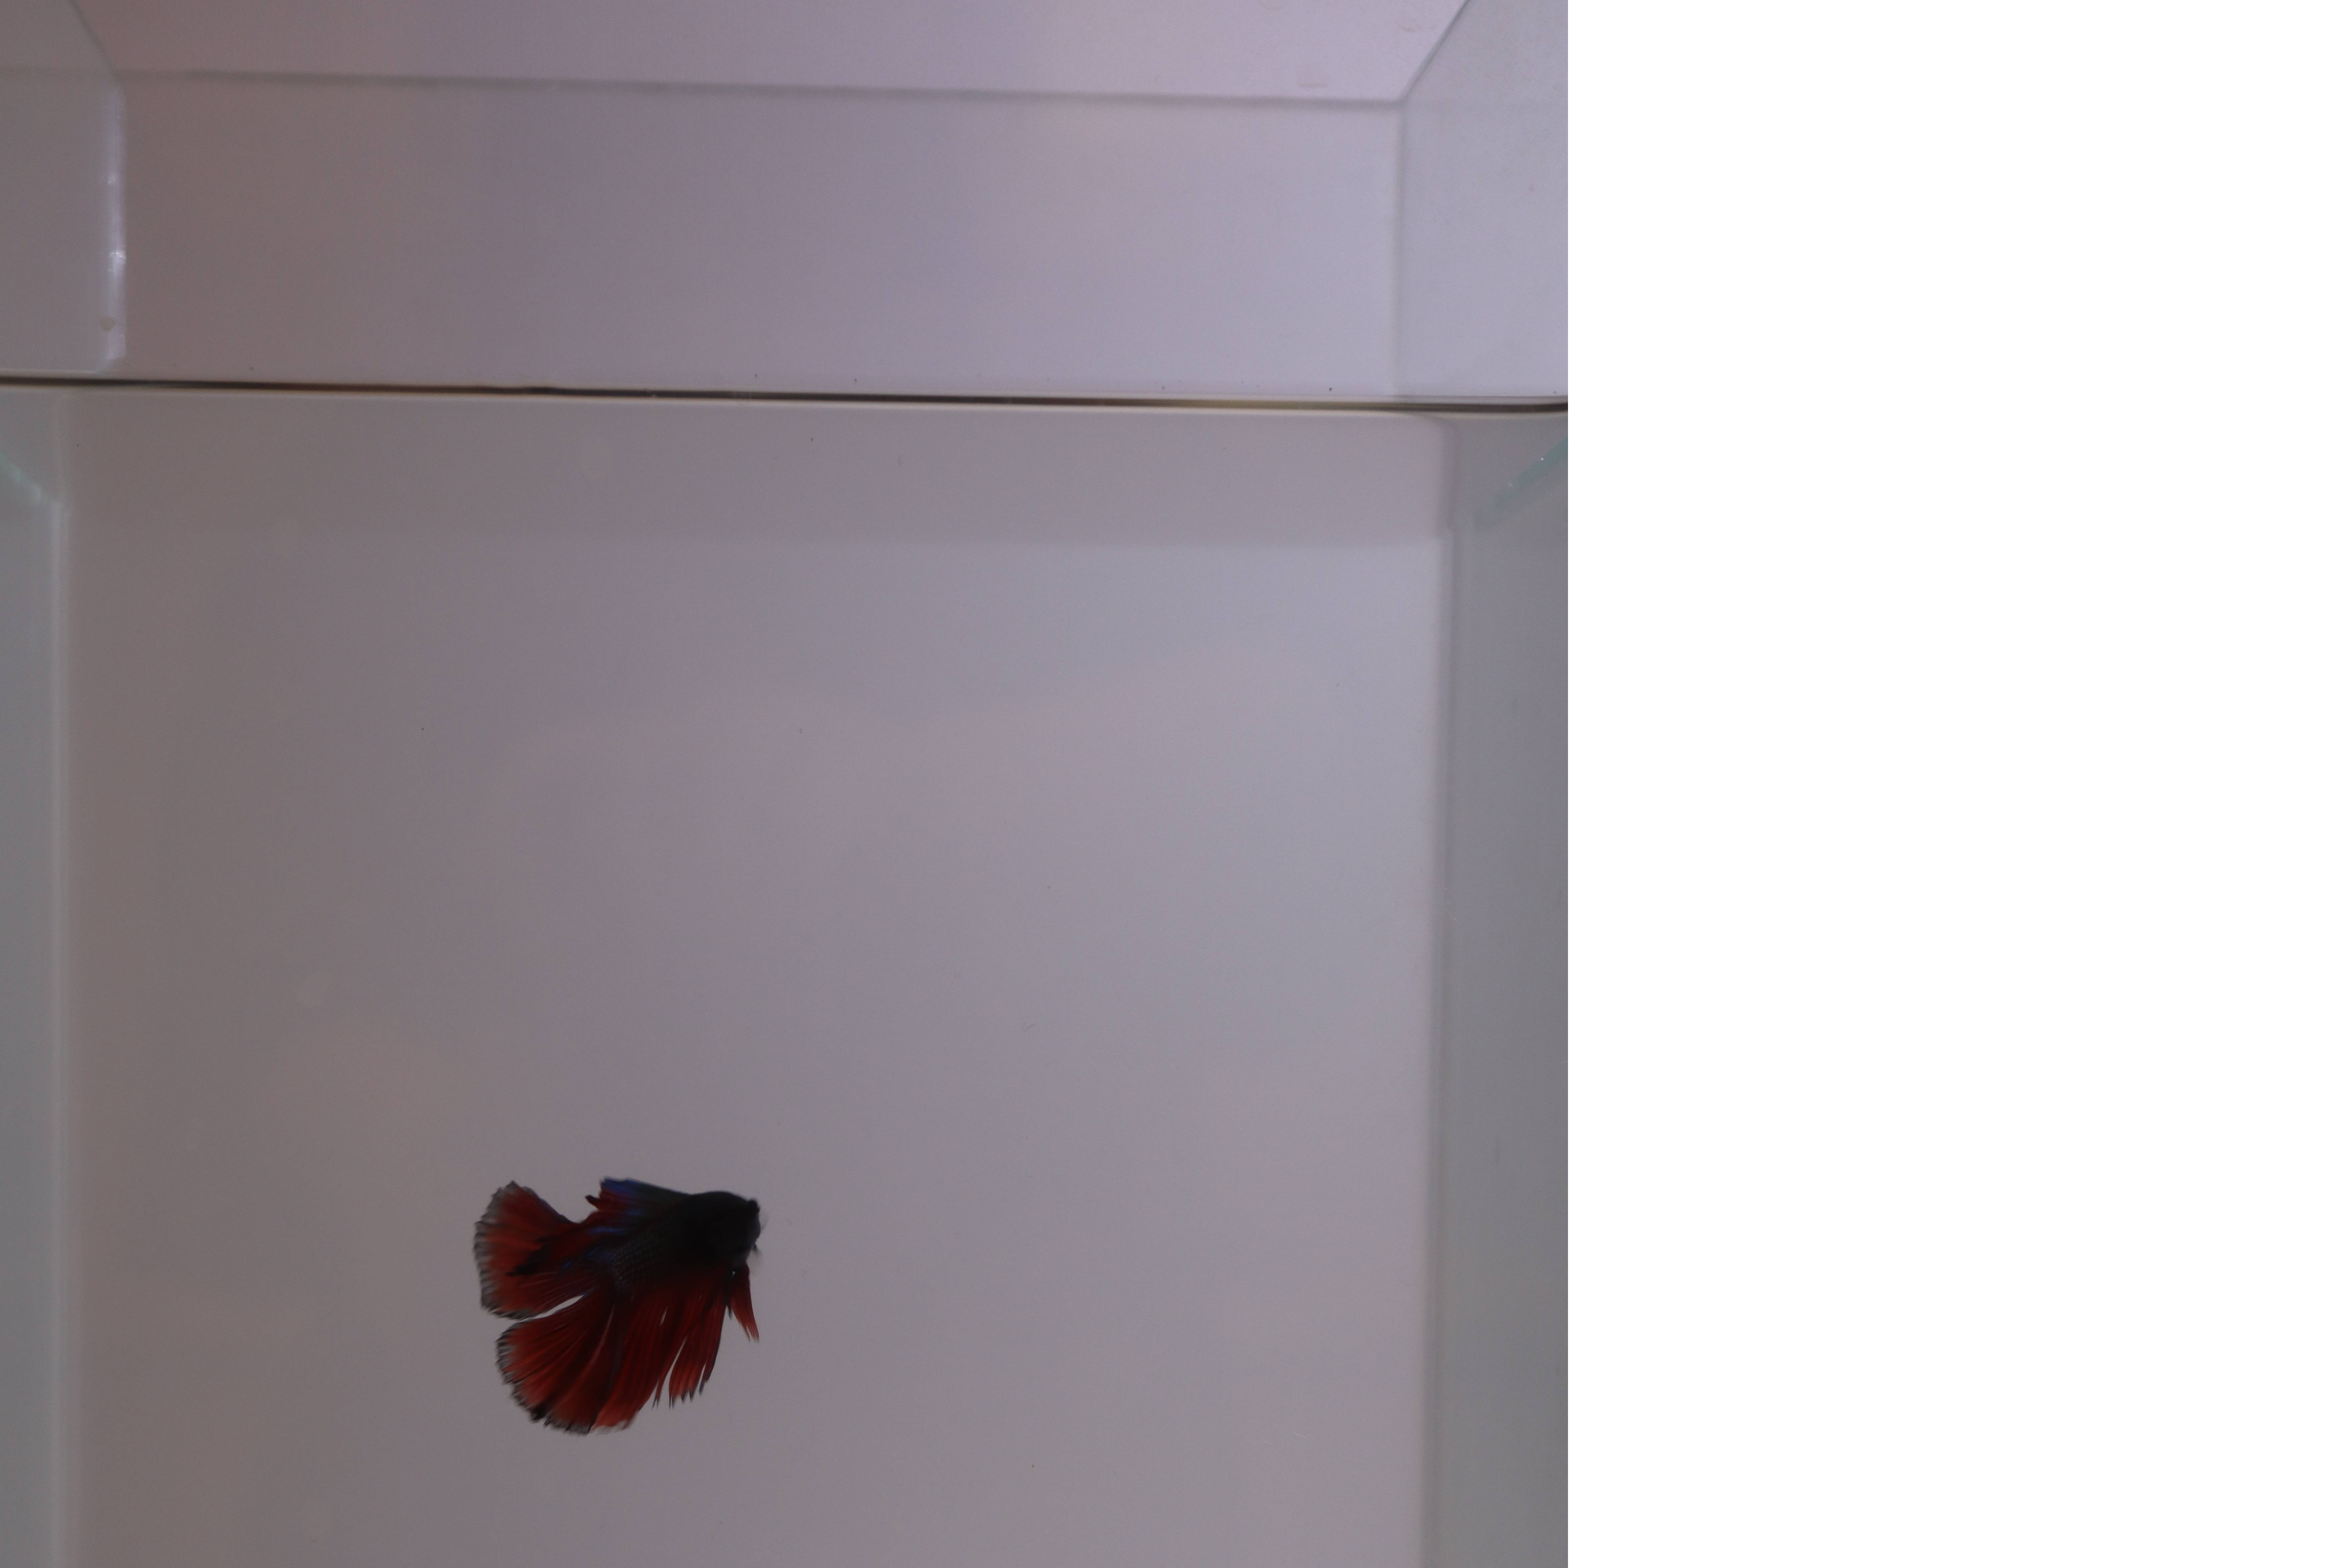fish: (446, 1157, 786, 1453)
